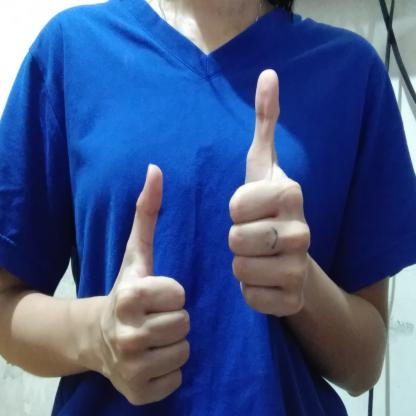which: (95, 66, 313, 410)
